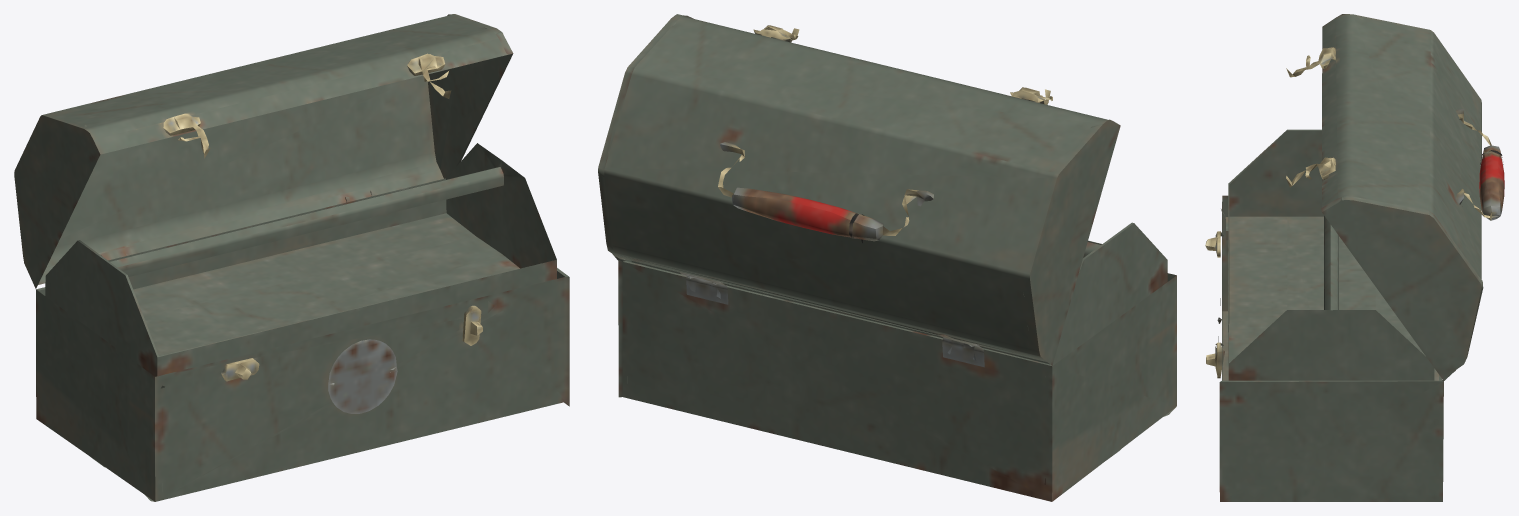
File: toolbox.glb
3 renders of one model, left to right at view 1: azimuth 30°, elevation 25°; view 2: azimuth 150°, elevation 25°; view 3: azimuth 270°, elevation 25°, orthographic. The views are drawn at different scales.
Visible parts, largest first — view 1: mesh; view 2: mesh; view 3: mesh.
Part boxes in pixels (x1=…): mesh: x1=14, y1=14, x2=569, y2=501; mesh: x1=598, y1=14, x2=1176, y2=501; mesh: x1=1205, y1=14, x2=1504, y2=501.
Bounding box in the file's own units: 0.4566 × 0.3471 × 0.3095.
1 material, 1 textured.
